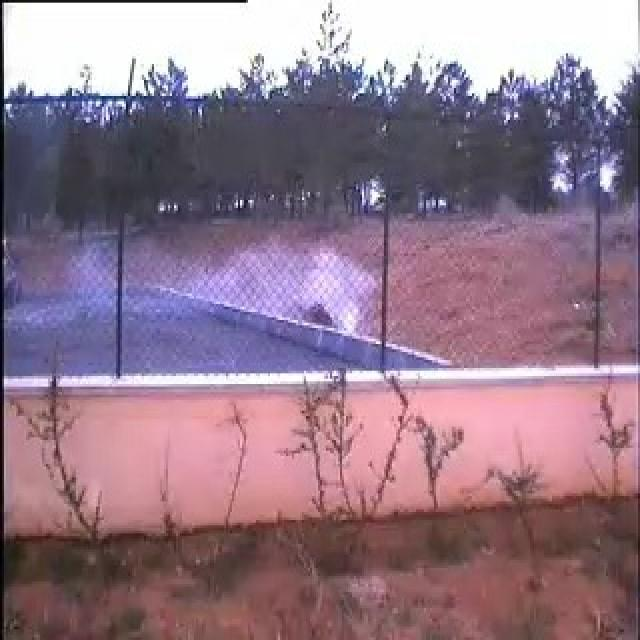smoke: (48, 208, 366, 371)
